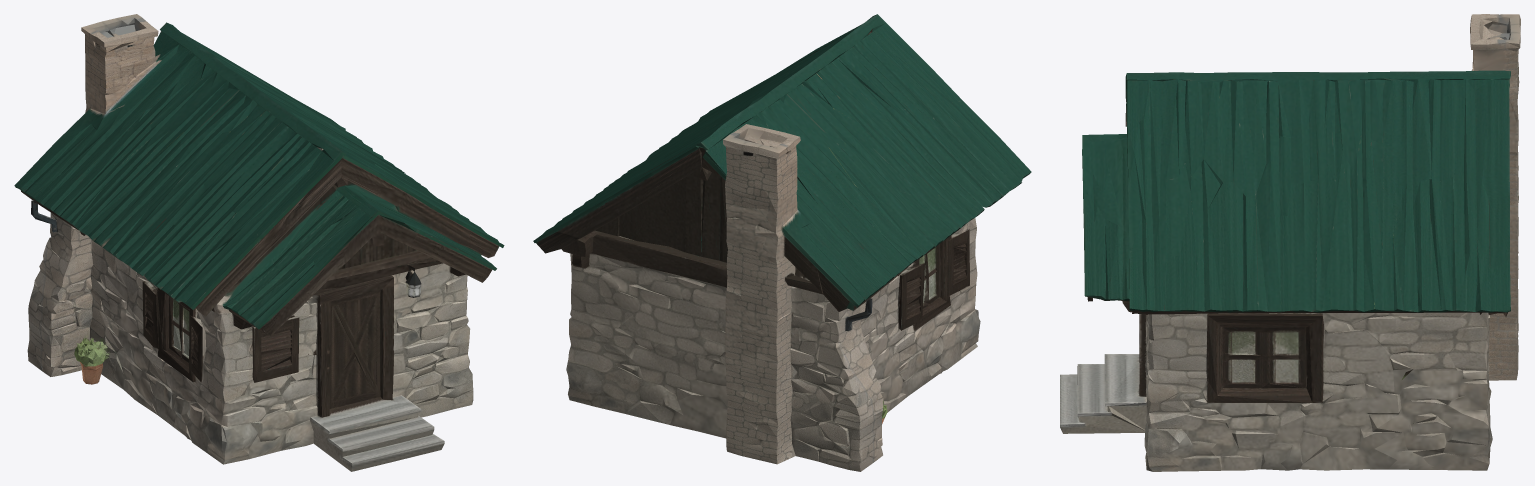
Rendered from hut.glb.
3 views of the same model, side by side, from view 1: azimuth 30°, elevation 25°; view 2: azimuth 150°, elevation 25°; view 3: azimuth 270°, elevation 25° (orthographic). The views are drawn at different scales.
Parts seen in each view (by area): view 1: output_unwrapped; view 2: output_unwrapped; view 3: output_unwrapped.
Boxes of the visible parts, box(x1,y1,x2,y2) form: output_unwrapped: box(14, 14, 504, 471); output_unwrapped: box(533, 14, 1031, 471); output_unwrapped: box(1060, 14, 1520, 471).
Size of the model in its own units: 1.65 by 1.52 by 1.87.
1 material, 1 textured.
